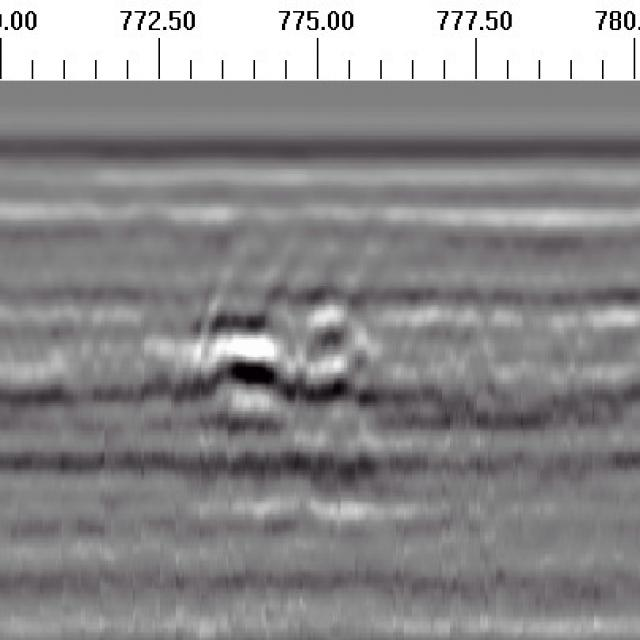loose: (183, 276, 419, 472)
